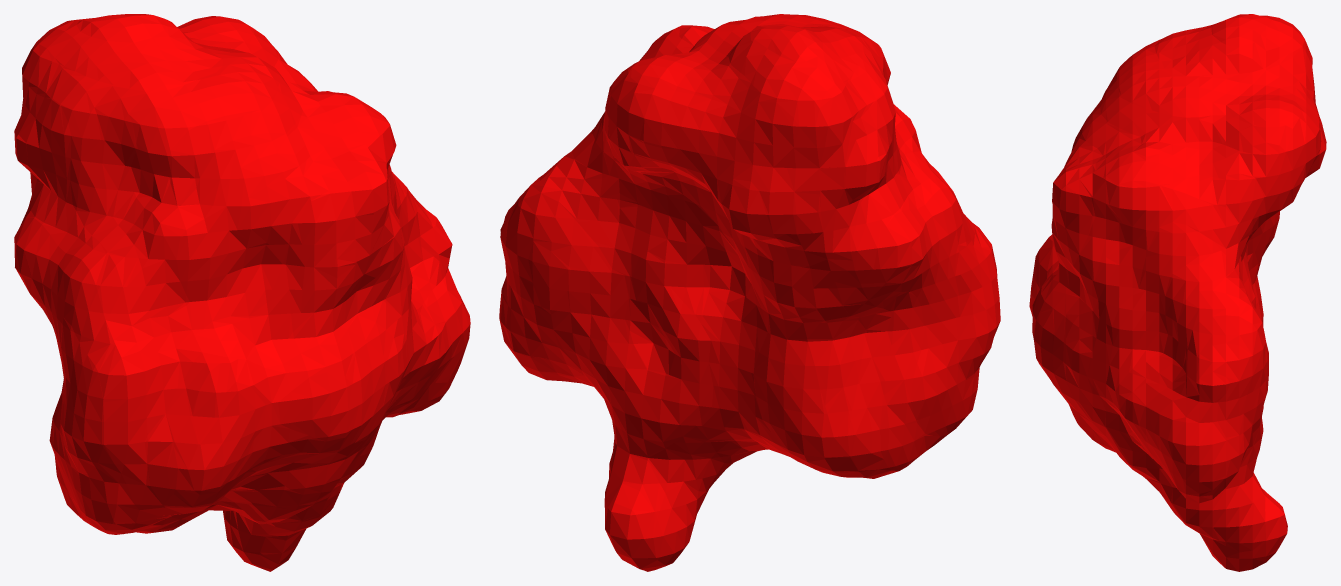
The model's file is sufS_coarse.dae.
3 views of the same model, side by side, from view 1: azimuth 30°, elevation 25°; view 2: azimuth 150°, elevation 25°; view 3: azimuth 270°, elevation 25° (orthographic). The views are drawn at different scales.
Visible parts, largest first — view 1: sufS; view 2: sufS; view 3: sufS.
Part boxes in pixels (x1,y1,x2,y2): sufS: [14, 14, 470, 571]; sufS: [499, 14, 1000, 571]; sufS: [1029, 14, 1326, 571].
Size of the model in its own units: 64.25 by 80.32 by 43.88.
